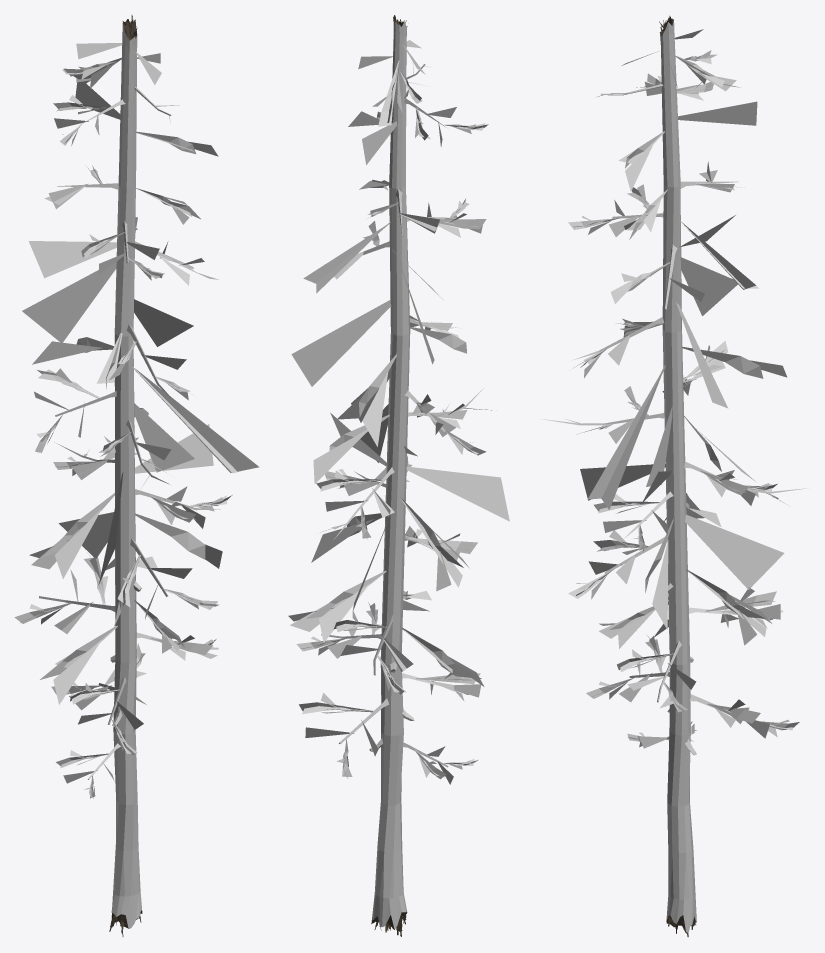
File: SM_PineDead05_lod1.obj
The picture shows the model from 3 angles, left to right: view 1: azimuth 30°, elevation 25°; view 2: azimuth 150°, elevation 25°; view 3: azimuth 270°, elevation 25°; orthographic projection.
Visible parts, largest first — view 1: SM_PineDead05_lod1; view 2: SM_PineDead05_lod1; view 3: SM_PineDead05_lod1.
Boxes of the visible parts, x1,y1,x2,y2 form: SM_PineDead05_lod1: [14, 15, 259, 936]; SM_PineDead05_lod1: [288, 15, 509, 936]; SM_PineDead05_lod1: [541, 15, 809, 937].
Bounding box in the file's own units: 94.14 × 445 × 119.
